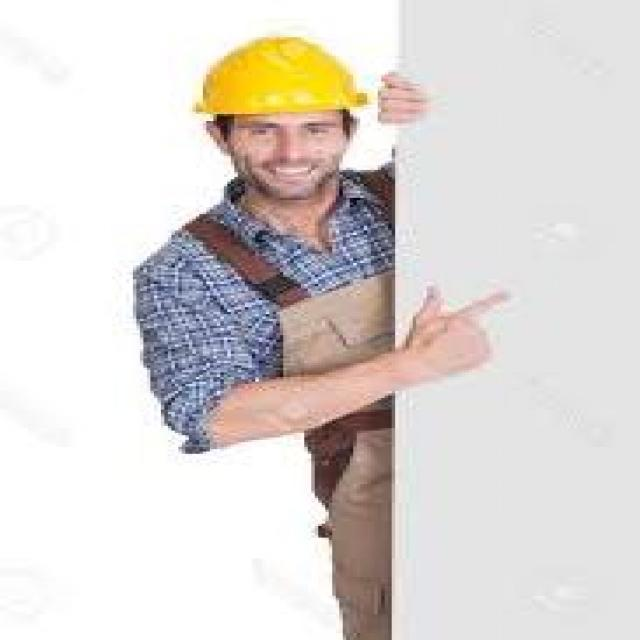safety_helmet: (181, 30, 381, 127)
